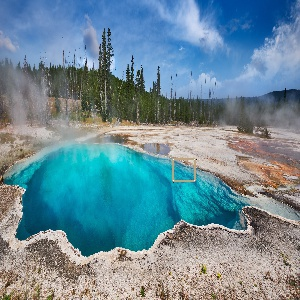square: (170, 156, 198, 184)
